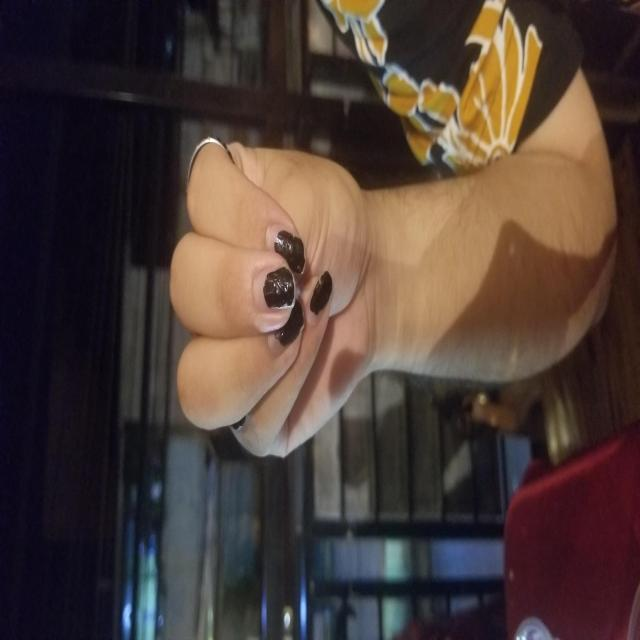M: (130, 80, 457, 506)
